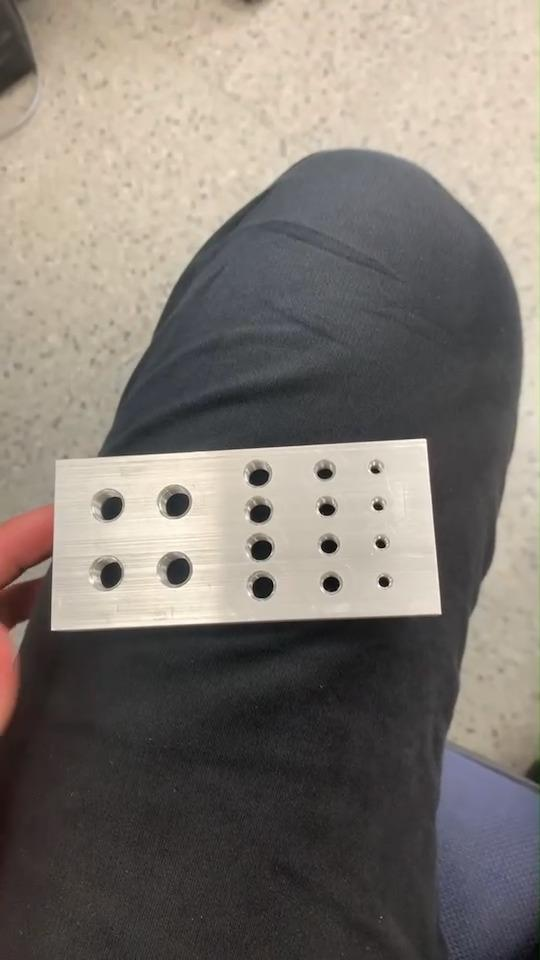hole: (87, 484, 131, 528), (152, 548, 196, 592), (155, 482, 197, 524), (88, 552, 128, 594), (242, 458, 278, 493), (244, 532, 280, 565), (243, 571, 280, 603), (242, 496, 278, 526), (310, 458, 340, 486), (316, 532, 346, 558), (318, 571, 346, 598), (313, 494, 342, 520), (364, 456, 388, 480), (369, 494, 391, 516), (373, 533, 392, 555), (375, 571, 394, 593)
